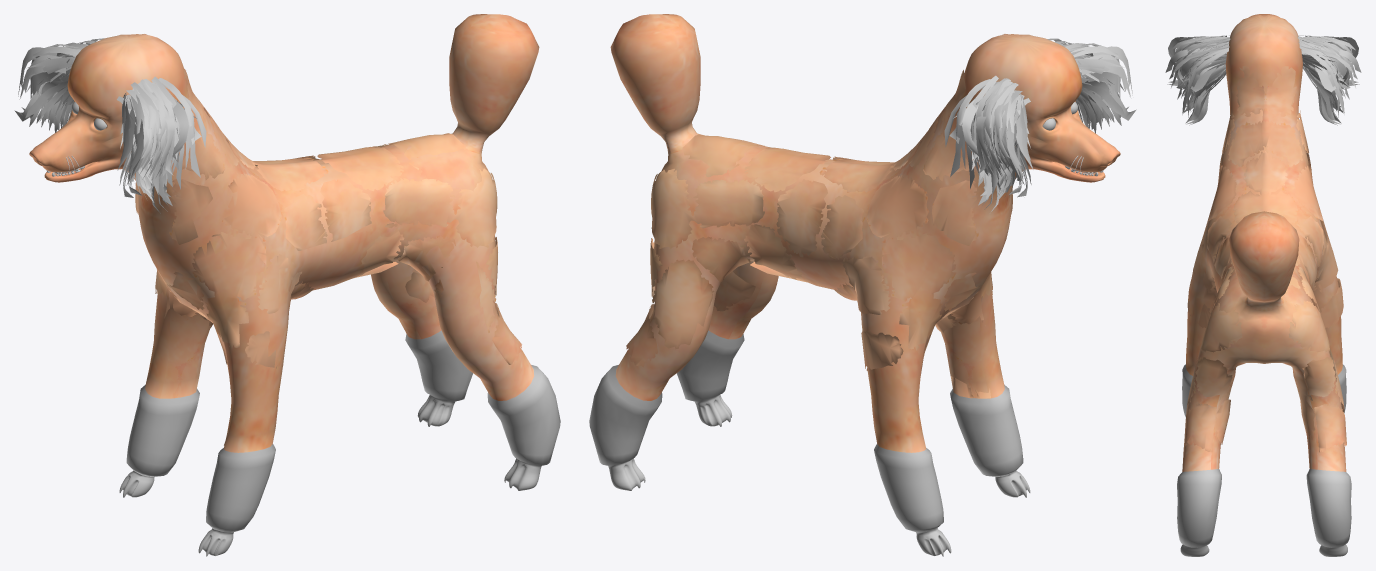
The model's file is PoodlePaintPhase.fbx.
3 renders of one model, left to right at view 1: azimuth 30°, elevation 25°; view 2: azimuth 150°, elevation 25°; view 3: azimuth 270°, elevation 25°, orthographic. The views are drawn at different scales.
Parts seen in each view (by area): view 1: Dog new_Body Paint.002, Dog new_Body Paint.001, Dog Ears.001; view 2: Dog new_Body Paint.002, Dog new_Body Paint.001, Dog Ears.001; view 3: Dog new_Body Paint.002, Dog new_Body Paint.001, Dog Ears.001.
Part boxes in pixels (x1,y1,x2,y2): Dog new_Body Paint.002: [29, 14, 560, 556]; Dog new_Body Paint.001: [135, 69, 521, 445]; Dog Ears.001: [14, 38, 206, 213]; Dog new_Body Paint.002: [589, 14, 1120, 556]; Dog new_Body Paint.001: [626, 70, 1012, 398]; Dog Ears.001: [944, 38, 1136, 211]; Dog new_Body Paint.002: [1177, 14, 1351, 556]; Dog new_Body Paint.001: [1184, 66, 1346, 452]; Dog Ears.001: [1165, 35, 1361, 125].
Size of the model in its own units: 318 by 301 by 136.
